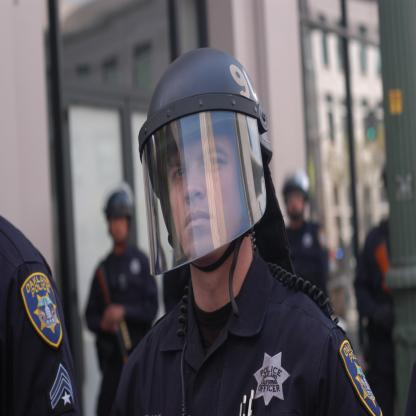Helmet: (138, 53, 289, 277)
